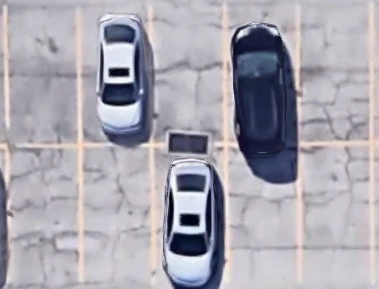Occupied: (78, 5, 152, 146), (152, 146, 229, 281), (224, 6, 297, 145)
Vacant: (150, 5, 226, 148), (5, 4, 79, 146), (297, 6, 372, 143), (298, 144, 372, 281), (5, 147, 80, 281), (80, 146, 153, 281), (227, 145, 299, 279)
